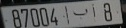0: (39, 7, 49, 26), (31, 7, 40, 27)
4: (50, 7, 58, 25)
7: (21, 7, 29, 28)
8: (11, 8, 22, 28), (104, 2, 112, 21)
b: (70, 6, 88, 19)
